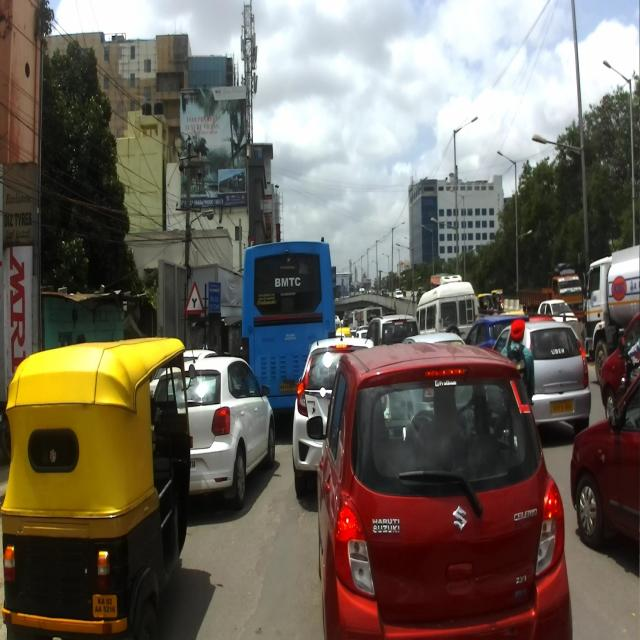Car_Maruti-Suzuki: (306, 340, 573, 639)
Car_TATA: (492, 320, 591, 433)
Car_Volkswagen: (152, 341, 275, 511)
autorickshaw: (2, 335, 196, 637)
bus: (242, 240, 337, 376)
